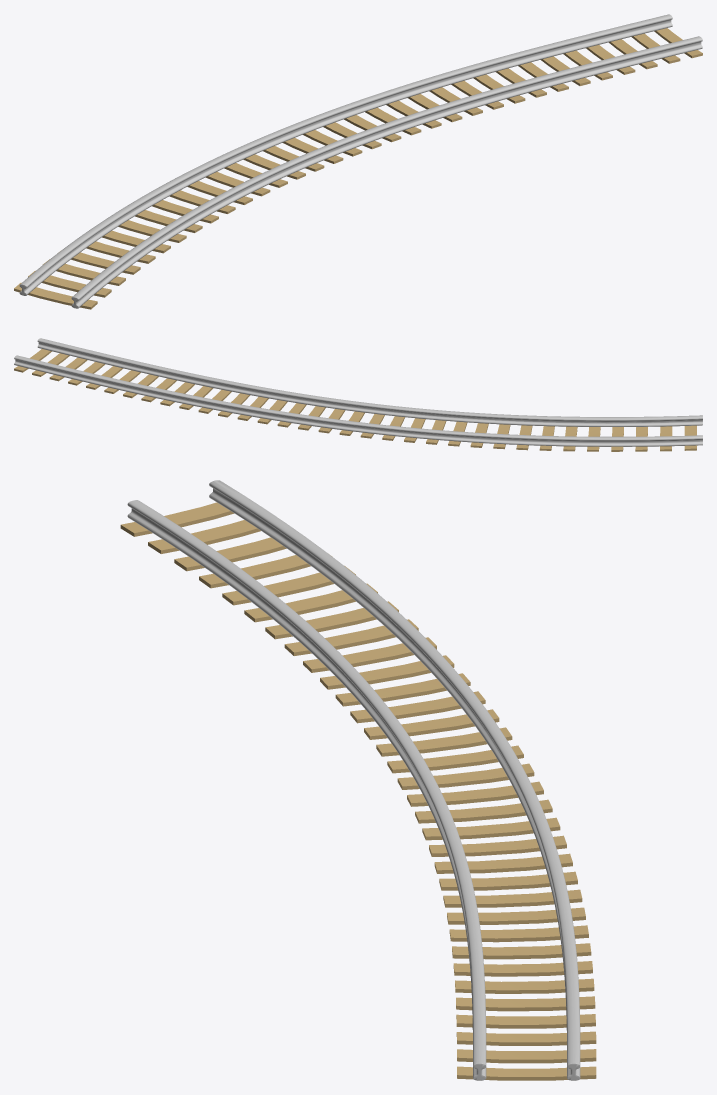
The model's file is Rail Bent.fbx.
3 renders of one model, top to bottom at view 1: azimuth 30°, elevation 25°; view 2: azimuth 150°, elevation 25°; view 3: azimuth 270°, elevation 25°, orthographic. The views are drawn at different scales.
Visible parts, largest first — view 1: Rail_Bent; view 2: Rail_Bent; view 3: Rail_Bent.
Boxes of the visible parts, x1,y1,x2,y2 form: Rail_Bent: (14,14,702,309); Rail_Bent: (14,338,702,451); Rail_Bent: (120,480,596,1080).
Size of the model in its own units: 2352 by 39.27 by 809.
